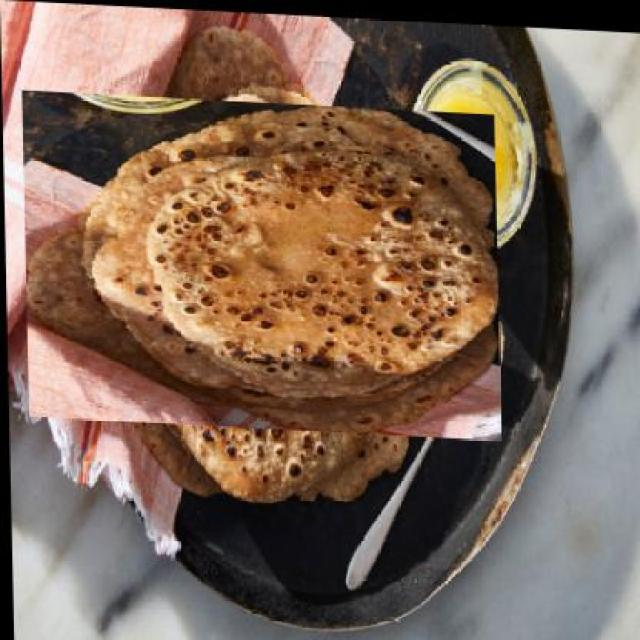chapati: (58, 55, 465, 473)
